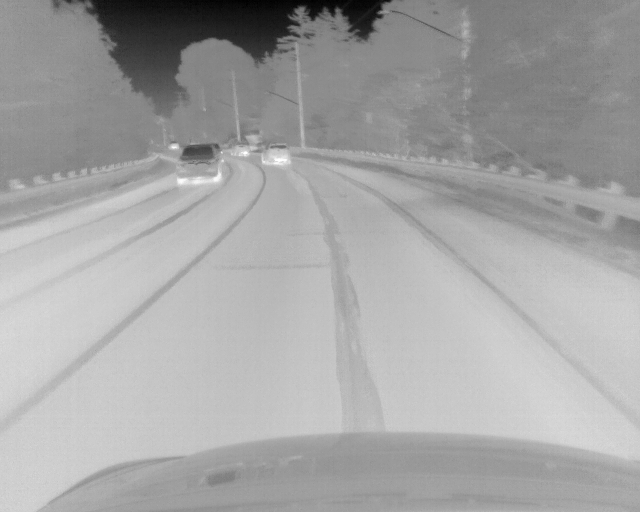car: (175, 143, 224, 183), (261, 143, 290, 167), (229, 144, 250, 157), (166, 142, 180, 150)
